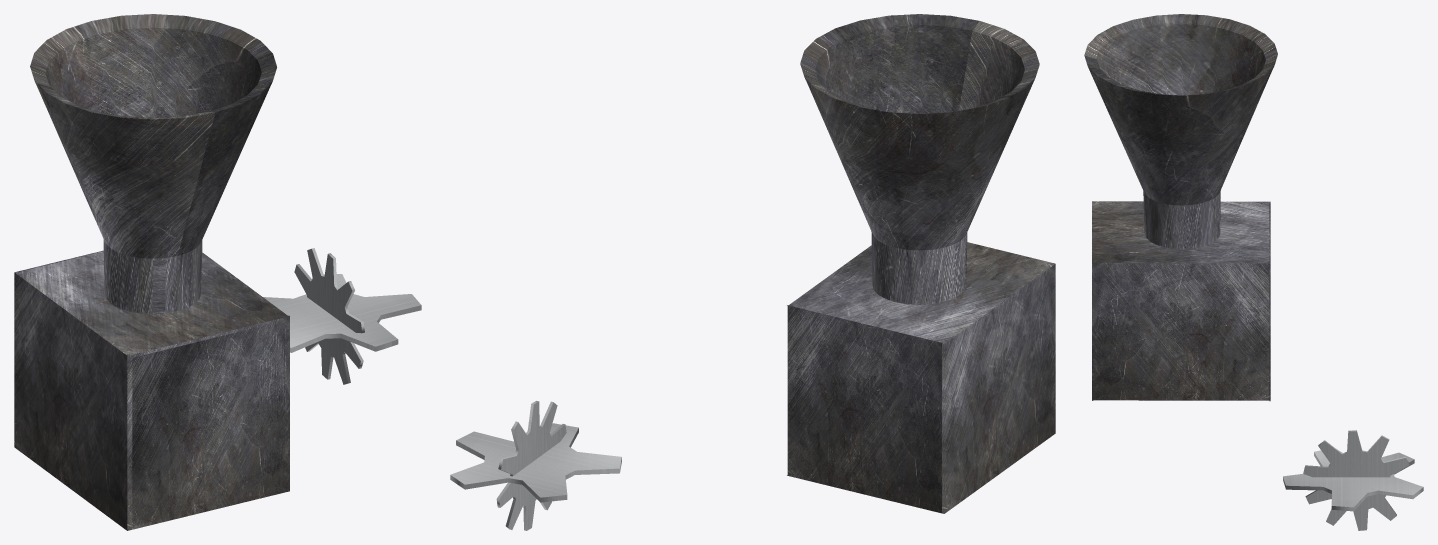
Rendered from tron_outline_loader_with_cogs.fbx.
3 views of the same model, side by side, from view 1: azimuth 30°, elevation 25°; view 2: azimuth 150°, elevation 25°; view 3: azimuth 270°, elevation 25° (orthographic). The views are drawn at different scales.
Visible parts, largest first — view 1: Box, funnel, funnel.003, Small Cog, Big Cog; view 2: Box, funnel, funnel.003, Small Cog, Big Cog; view 3: Box, funnel, Big Cog, funnel.003, Small Cog.
Part boxes in pixels (x1,y1,x2,y2): Box: [14, 251, 289, 530]; funnel: [32, 15, 275, 313]; funnel.003: [15, 14, 288, 530]; Small Cog: [263, 274, 421, 352]; Big Cog: [294, 248, 364, 384]; Box: [787, 242, 1055, 513]; funnel: [802, 15, 1038, 303]; funnel.003: [787, 14, 1054, 513]; Small Cog: [450, 423, 621, 502]; Big Cog: [496, 401, 566, 530]; Box: [1092, 201, 1270, 401]; funnel: [1085, 15, 1276, 248]; Big Cog: [1303, 430, 1409, 530]; funnel.003: [1084, 14, 1277, 400]; Small Cog: [1283, 449, 1423, 511].
Bounding box in the file's own units: 2 × 1.87 × 1.58.
